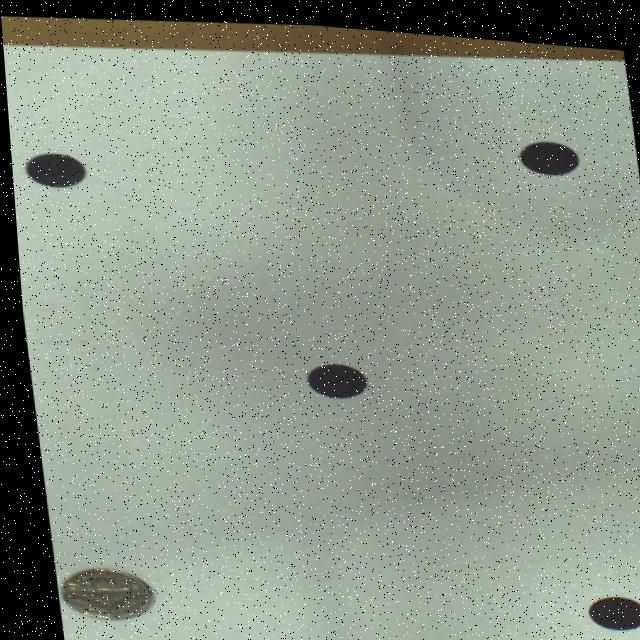space: (300, 359, 362, 394), (578, 587, 638, 621), (22, 153, 83, 186), (519, 132, 577, 166)
tail5bath: (52, 567, 142, 618)
